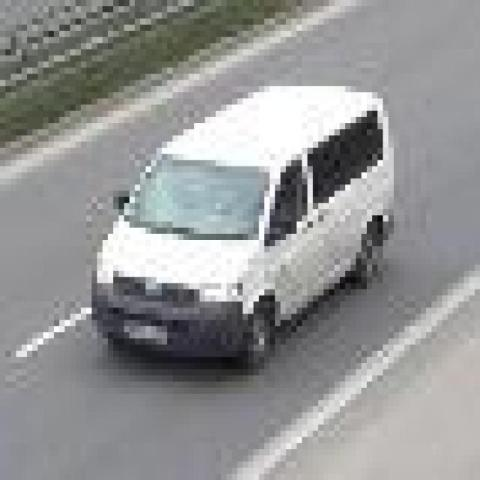van: (94, 86, 392, 363)
